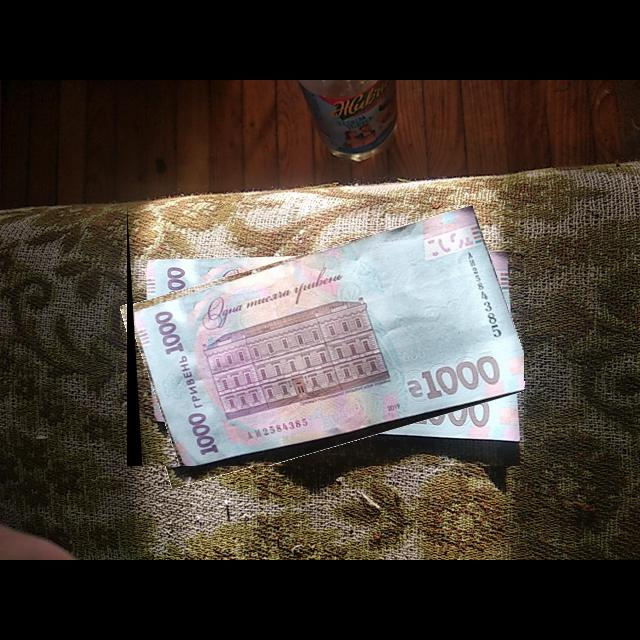1000uah: (132, 205, 525, 467)
